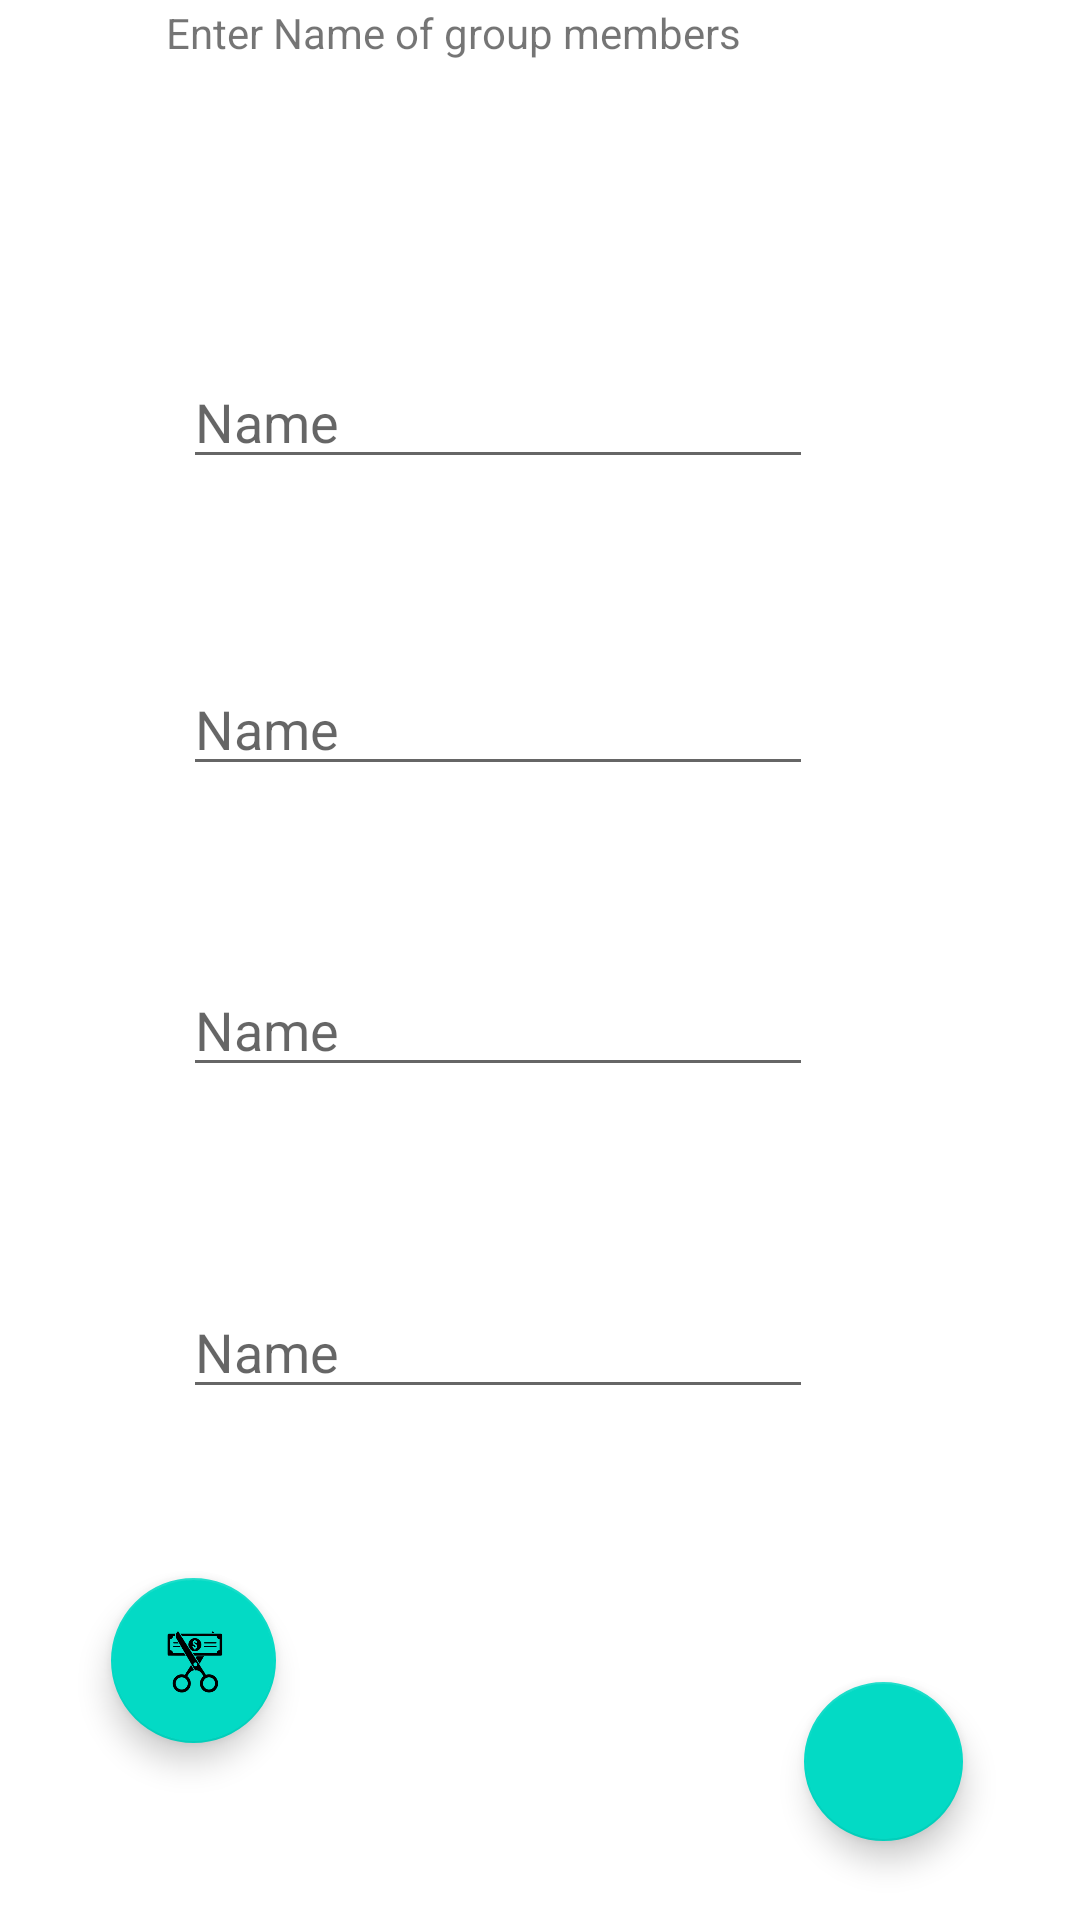

Screen size 1080×1920. Icon name, then its center in pixels as point (x, y):
split: point (193, 1660)
